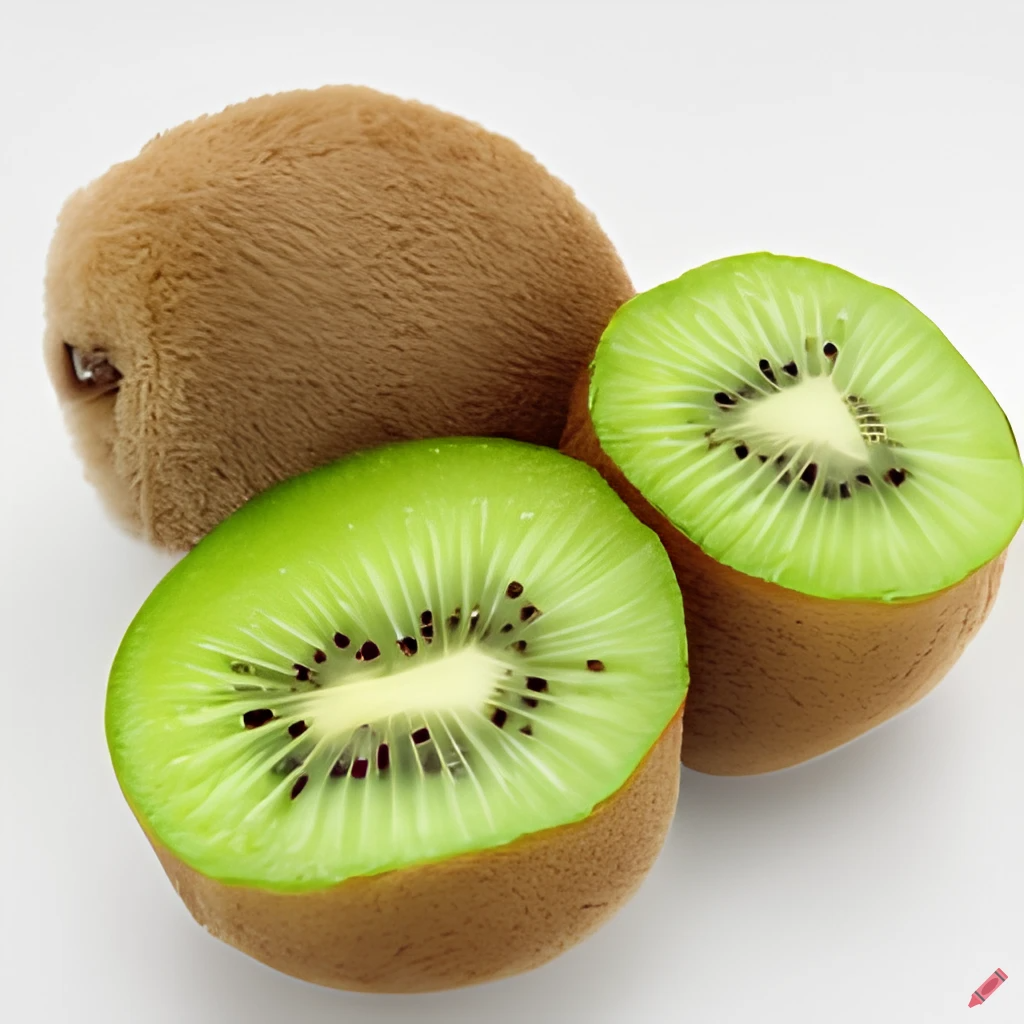Kiwi: (94, 447, 696, 982)
